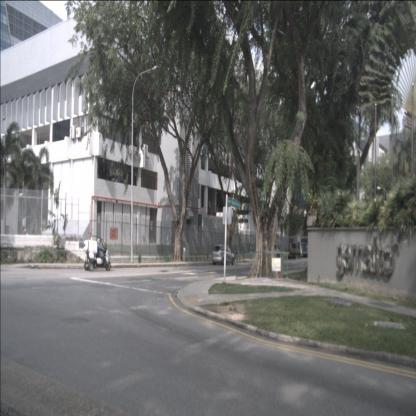human-pedestrian-adult: (249, 242, 253, 260)
vehicle-bus-rigid: (300, 235, 322, 258)
vehicle-car: (212, 244, 235, 265), (261, 243, 280, 259)
vehicle-motorcycle: (83, 237, 111, 271)
